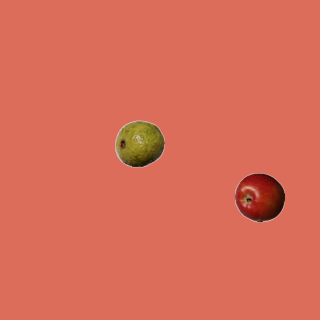Apple Braeburn: (234, 172, 284, 222)
Guava: (114, 118, 164, 168)
